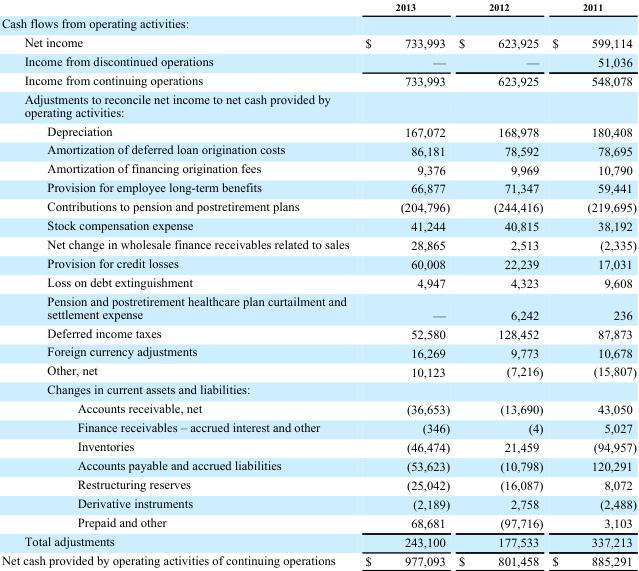table: (0, 0, 635, 567)
table column: (0, 0, 356, 567), (356, 0, 453, 567), (453, 0, 546, 567), (546, 0, 635, 567)
table column header: (0, 0, 635, 14)
table projected row header: (0, 89, 635, 120), (0, 14, 635, 32), (0, 380, 635, 398)
table row: (0, 291, 635, 323), (0, 89, 635, 120), (0, 120, 635, 140), (0, 398, 635, 418), (0, 32, 635, 51), (0, 51, 635, 70), (0, 70, 635, 89), (0, 140, 635, 159), (0, 159, 635, 178), (0, 178, 635, 197), (0, 197, 635, 216), (0, 234, 635, 253), (0, 253, 635, 272), (0, 272, 635, 291), (0, 323, 635, 342), (0, 342, 635, 361), (0, 361, 635, 380), (0, 418, 635, 437), (0, 455, 635, 474), (0, 474, 635, 493), (0, 493, 635, 512), (0, 512, 635, 531), (0, 531, 635, 550), (0, 14, 635, 32), (0, 216, 635, 234), (0, 380, 635, 398), (0, 437, 635, 455), (0, 550, 635, 567), (0, 0, 635, 14)
